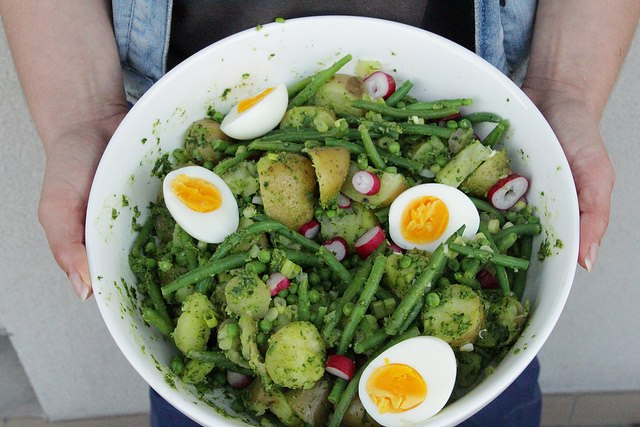fried egg: (348, 332, 476, 415), (376, 181, 492, 250), (169, 161, 232, 244), (224, 94, 293, 136)
